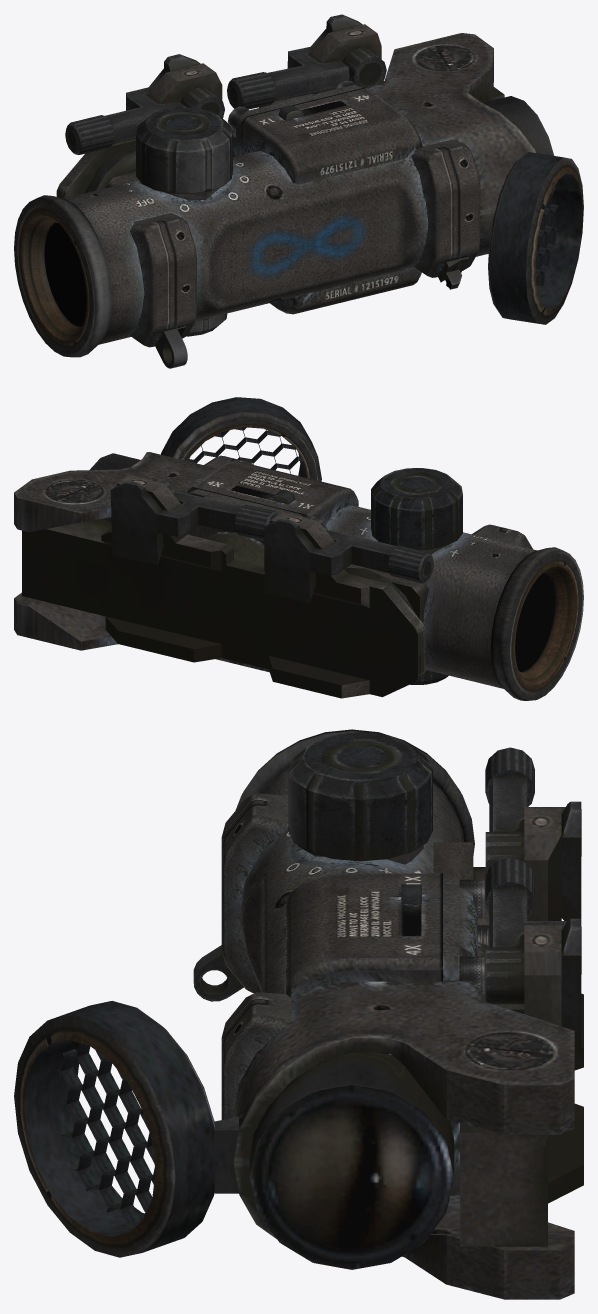
Rendered from t6_attach_optic_specter_view_LOD0.obj.
3 renders of one model, top to bottom at view 1: azimuth 30°, elevation 25°; view 2: azimuth 150°, elevation 25°; view 3: azimuth 270°, elevation 25°, orthographic. The views are drawn at different scales.
Parts seen in each view (by area): view 1: mtl_t6_attach_optic_specter_camo1, mtl_t6_attach_optic_specter, mtl_t6_attach_optic_specter_camo2, mtl_t6_wpn_sniper_ballista_lens; view 2: mtl_t6_attach_optic_specter_camo1, mtl_t6_attach_optic_specter, mtl_t6_attach_optic_specter_camo2, mtl_t6_wpn_sniper_ballista_lens; view 3: mtl_t6_attach_optic_specter_camo1, mtl_t6_attach_optic_specter, mtl_t6_attach_optic_specter_camo2.
Boxes of the visible parts, x1=… form: mtl_t6_attach_optic_specter_camo1: x1=56, y1=24, x2=535, y2=347; mtl_t6_attach_optic_specter: x1=14, y1=14, x2=583, y2=368; mtl_t6_attach_optic_specter_camo2: x1=71, y1=72, x2=563, y2=324; mtl_t6_wpn_sniper_ballista_lens: x1=44, y1=222, x2=86, y2=326; mtl_t6_attach_optic_specter_camo1: x1=14, y1=452, x2=537, y2=698; mtl_t6_attach_optic_specter: x1=110, y1=412, x2=583, y2=700; mtl_t6_attach_optic_specter_camo2: x1=89, y1=397, x2=462, y2=614; mtl_t6_wpn_sniper_ballista_lens: x1=515, y1=573, x2=554, y2=671; mtl_t6_attach_optic_specter_camo1: x1=221, y1=769, x2=583, y2=1299; mtl_t6_attach_optic_specter: x1=14, y1=729, x2=581, y2=1269; mtl_t6_attach_optic_specter_camo2: x1=50, y1=747, x2=534, y2=1252.
Size of the model in its own units: 12.71 by 5.06 by 8.65.
